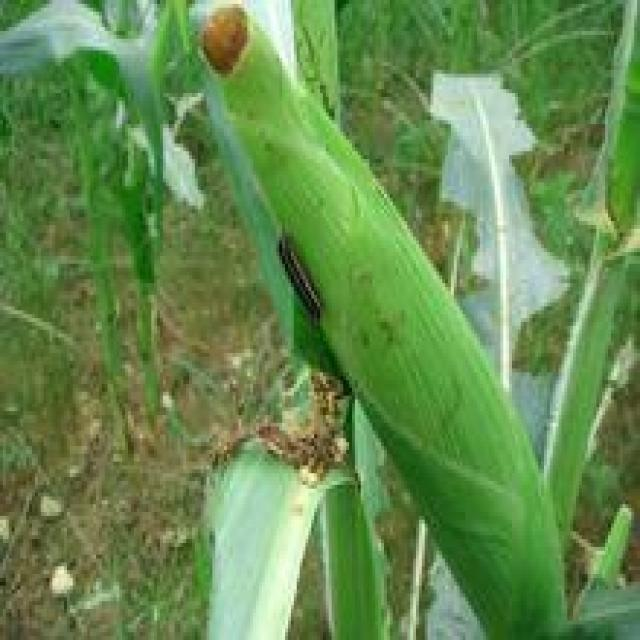army worm: (273, 228, 322, 317)
